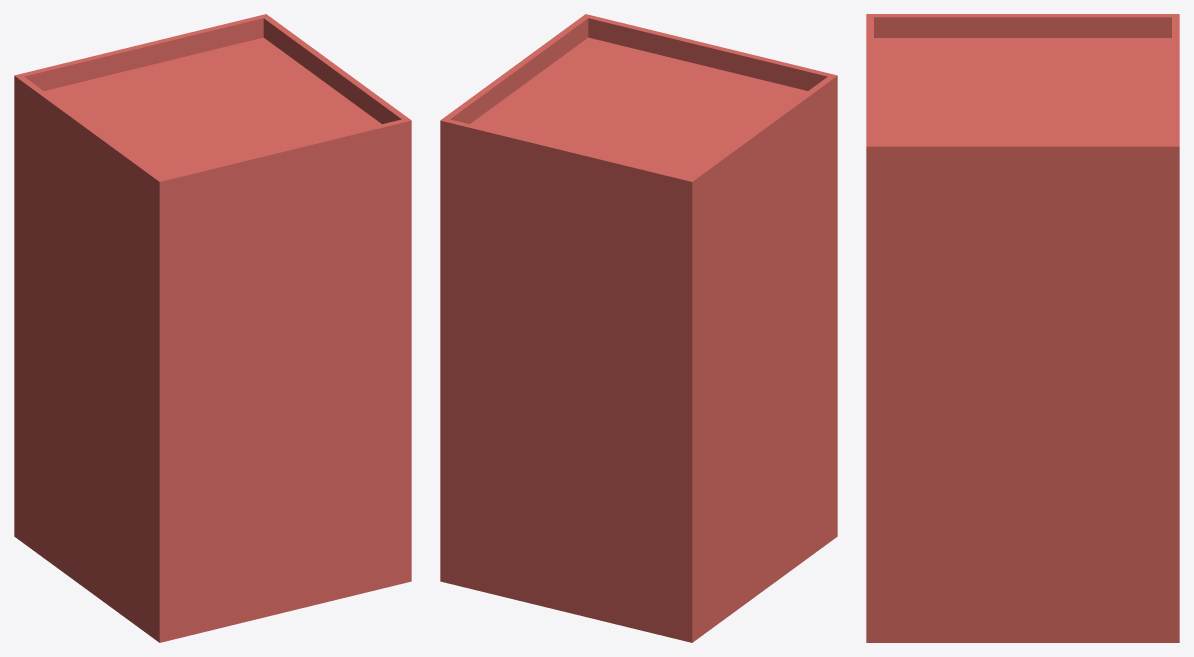
File: Tower.fbx
3 views of the same model, side by side, from view 1: azimuth 30°, elevation 25°; view 2: azimuth 150°, elevation 25°; view 3: azimuth 270°, elevation 25° (orthographic). The views are drawn at different scales.
Parts seen in each view (by area): view 1: Tower; view 2: Tower; view 3: Tower.
Boxes of the visible parts, x1=… form: Tower: x1=14, y1=14, x2=411, y2=642; Tower: x1=440, y1=14, x2=837, y2=642; Tower: x1=866, y1=14, x2=1179, y2=642.
Size of the model in its own units: 400 by 699 by 400.
